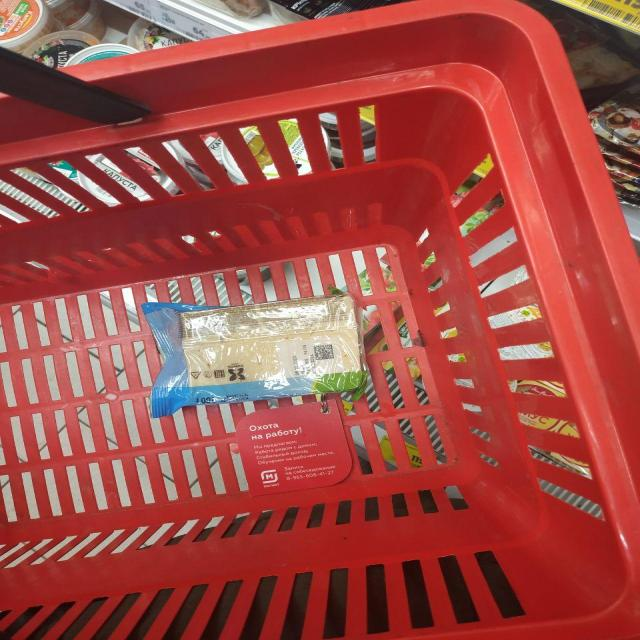cheese: (105, 204, 383, 601)
